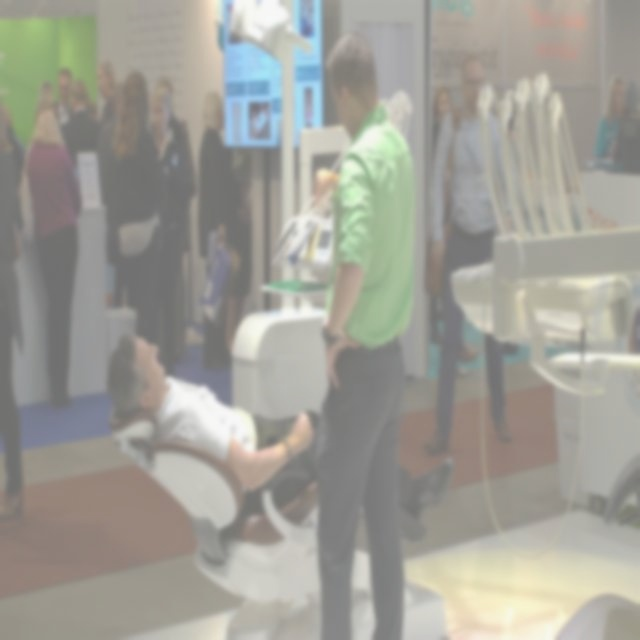pessoa: (301, 26, 418, 638), (104, 329, 456, 527), (422, 53, 512, 456), (12, 109, 84, 407), (108, 69, 174, 367), (150, 73, 200, 363), (150, 86, 190, 382), (0, 90, 27, 525), (197, 88, 237, 378), (0, 104, 29, 439), (221, 146, 254, 356), (428, 83, 452, 350), (58, 77, 102, 168), (96, 80, 127, 208), (592, 70, 628, 174), (612, 78, 640, 168), (75, 94, 101, 170), (49, 66, 74, 142), (506, 96, 522, 183), (96, 60, 116, 123), (34, 88, 58, 131), (248, 99, 272, 142), (298, 0, 316, 39), (300, 84, 314, 131), (36, 78, 54, 94)
